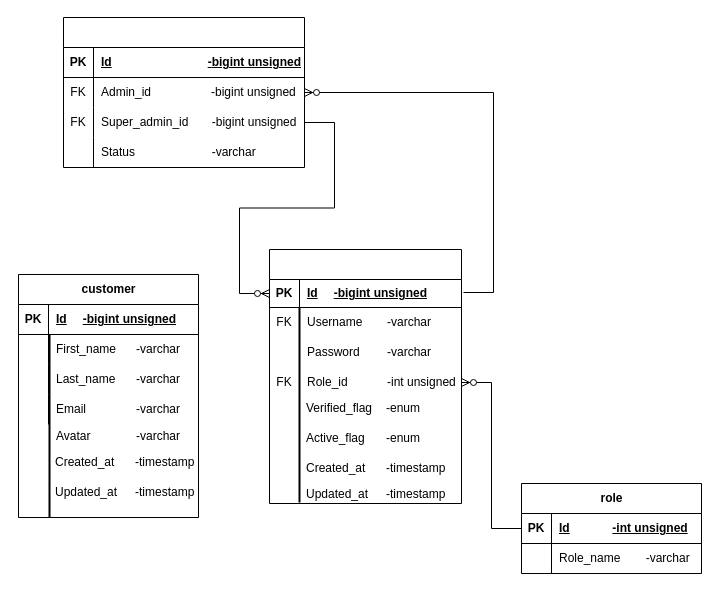
Some shapes in this 719 by 591 pixel diagram are drawn without their labels. The shapes that lost their labels are listed below. From the top down, each one's box as (x1, y1, x2, y2) in pixels, then its label:
(62, 16, 304, 168): register
(268, 248, 462, 504): actors
